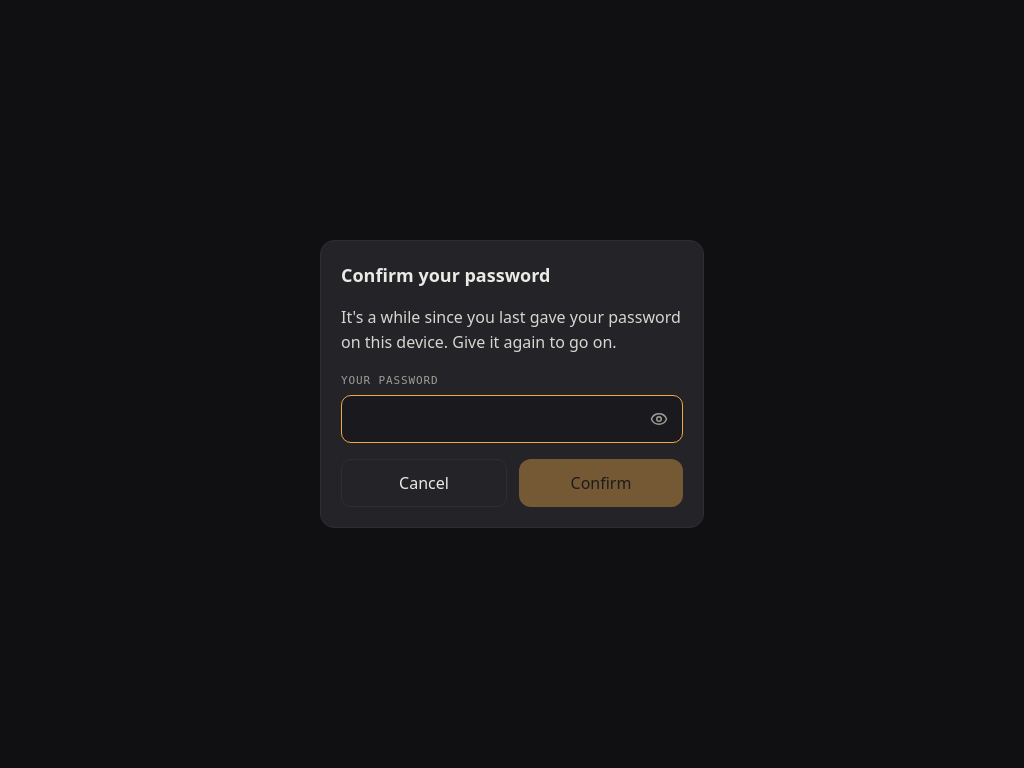
Test: PasswordPrompt › says so in the dialog when the password is wrong
In the password field labelled "Your password": [512, 419] box [341, 395, 683, 443], type "wrong"
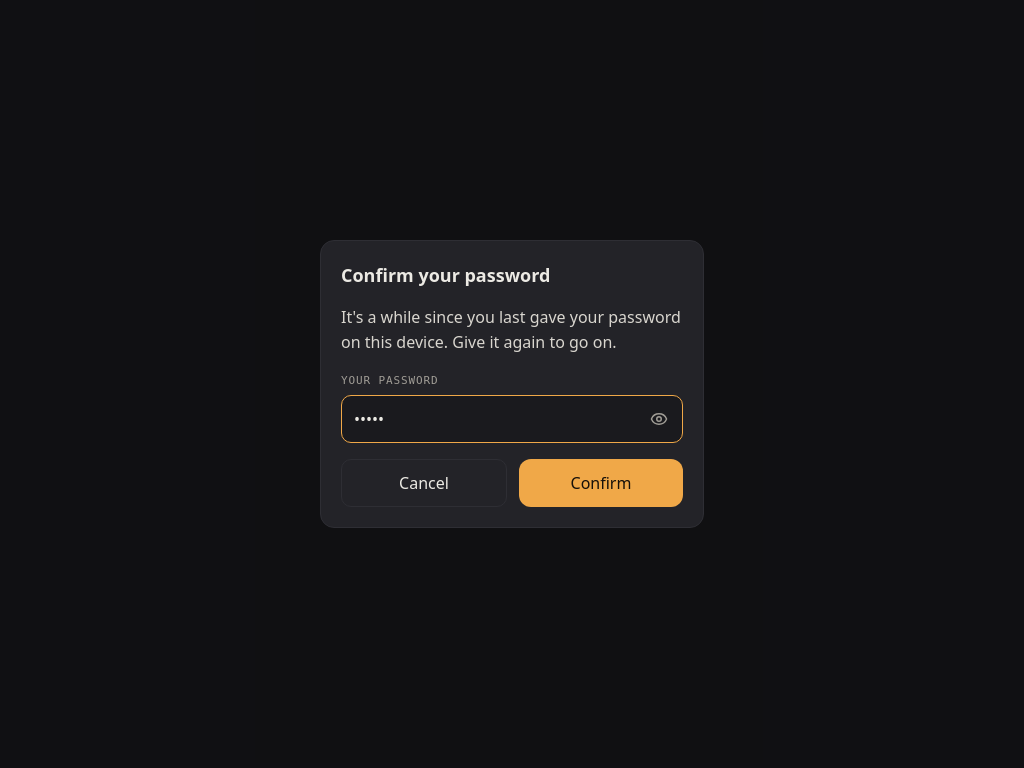
Click the button "Confirm": [601, 483] box [519, 459, 683, 507]
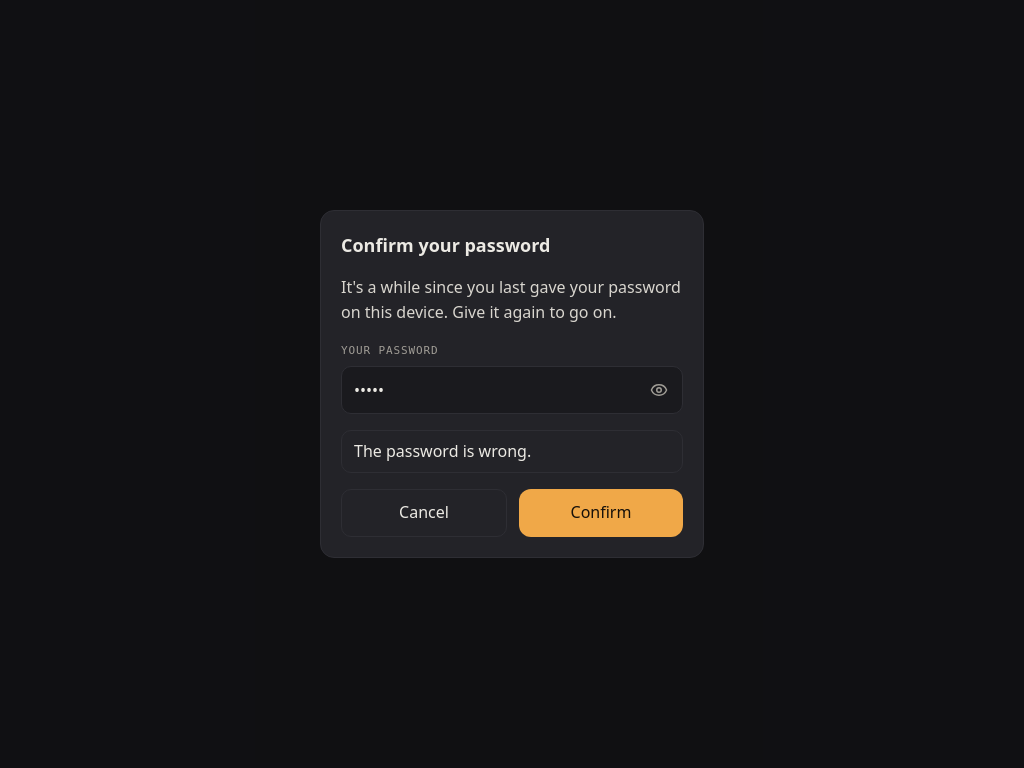
Expected: the dialog is shown, [320, 210, 704, 558]
Now the text "The password is wrong." is shown, box [341, 430, 683, 473]
